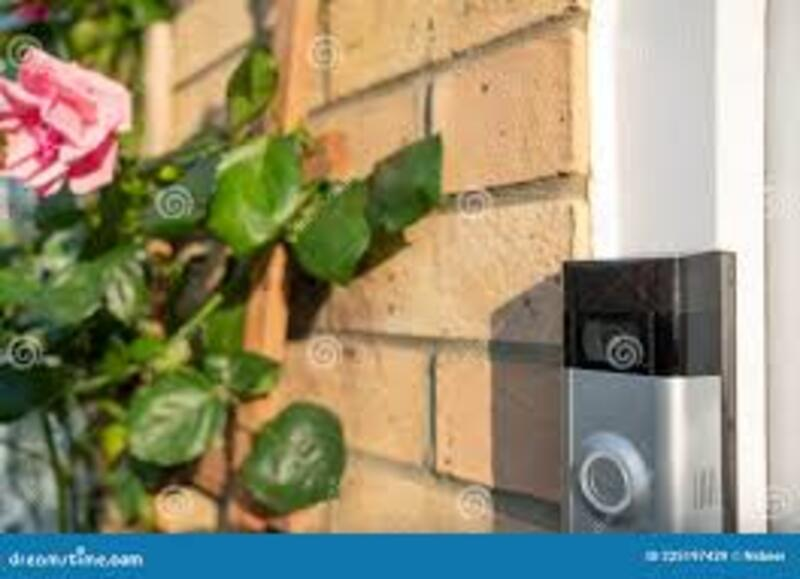doorbell: (549, 222, 725, 530)
